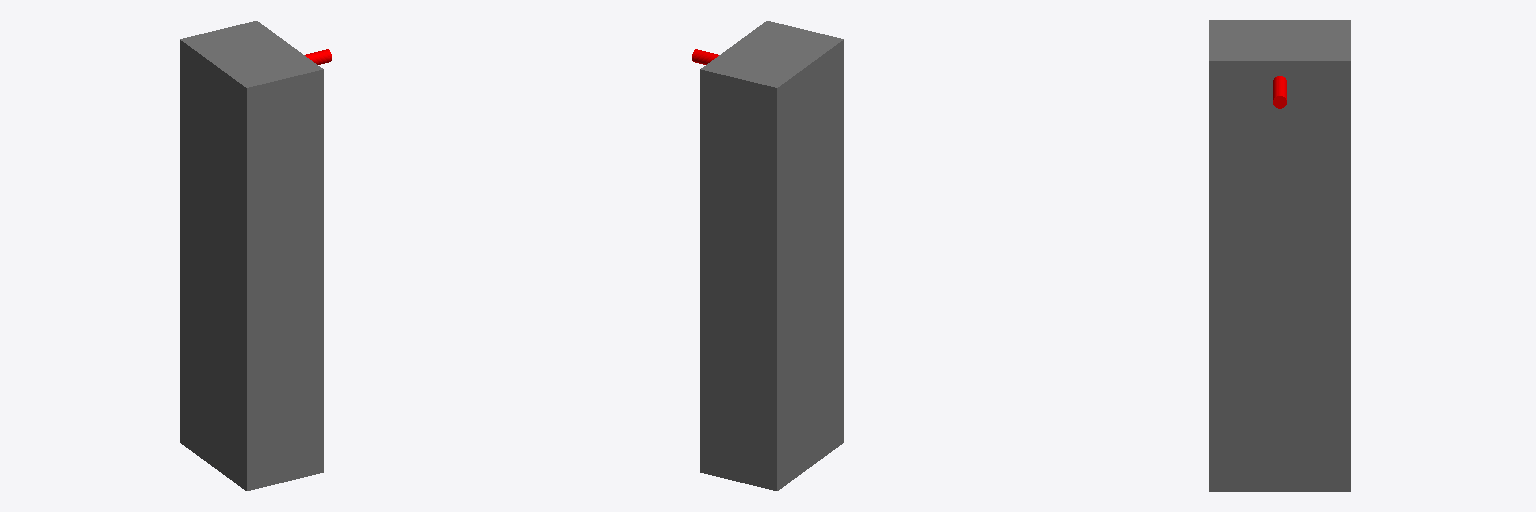
robot.urdf — piston_pneumatic:
<?xml version="1.0"?>
<robot name="piston_pneumatic">

  <link name="world"/>

  <link name="base_link">
    <inertial>
      <mass value="10.0"/>
      <origin xyz="0 0 0" rpy="0 0 0"/>
      <inertia ixx="0.1" ixy="0" ixz="0" iyy="0.1" iyz="0" izz="0.1"/>
    </inertial>
    <visual>
      <geometry>
        <box size="0.4 0.6 2.0 "/>
      </geometry>
      <material name="grey">
        <color rgba="0.5 0.5 0.5 1"/>
      </material>
    </visual>
    <collision>
      <geometry>
        <box size="0.4 0.6 2.0 "/>
      </geometry>
    </collision>
  </link>

  <joint name="fixed_to_world" type="fixed">
    <parent link="world"/>
    <child link="base_link"/>
    <origin xyz="0 0 0.1" rpy="0 0 0"/>
  </joint>

  <link name="pusher_rod">
    <inertial>
      <mass value="0.5"/>
      <origin xyz="0 0 0" rpy="0 1.57 0"/>
      <inertia ixx="0.001" ixy="0" ixz="0" iyy="0.001" iyz="0" izz="0.001"/>
    </inertial>
    <visual>
      <origin xyz="0 0 0" rpy="0 1.57 0"/>
      <geometry>
        <cylinder radius="0.03" length="0.4"/>
      </geometry>
      <material name="red">
        <color rgba="1 0 0 1"/>
      </material>
    </visual>
    <collision>
      <origin xyz="0 0 0" rpy="0 1.57 0"/>
      <geometry>
        <cylinder radius="0.03" length="0.4"/>
      </geometry>
    </collision>
  </link>

  <joint name="pusher_joint" type="prismatic">
    <parent link="base_link"/>
    <child link="pusher_rod"/>
    <origin xyz="0.2 0 0.9" rpy="0 0 0"/>
    <axis xyz="1 0 0"/>
    <limit lower="0" upper="1.0" effort="1000" velocity="2.0"/>
    <dynamics damping="0.5" friction="1.0"/>
  </joint>

  <ros2_control name="IgnitionSystem" type="system">
   <hardware>
    <plugin>ign_ros2_control/IgnitionSystem</plugin>
   </hardware>
   <joint name="pusher_joint">
    <command_interface name="effort">
      <param name="min">-1000</param>
      <param name="max">1000</param>
    </command_interface>
    <state_interface name="position"/>
    <state_interface name="velocity"/>
   </joint>
  </ros2_control>

  <gazebo>
   <plugin filename="ign_ros2_control-system" name="ign_ros2_control::IgnitionROS2ControlPlugin">
    <parameters>/home/user/ros2_ws/src/final_project/config/controllers.yaml</parameters>
    <ros>
      <namespace>piston_ns</namespace>
    </ros>
    <robot_param_node>rsp_piston</robot_param_node>
   </plugin>
  </gazebo>

</robot>

--- Render facts (derived) ---
3 views of the same robot in one strip: view 1: azimuth 30°, elevation 25°; view 2: azimuth 150°, elevation 25°; view 3: azimuth 270°, elevation 25° (orthographic).
Robot: piston_pneumatic — 3 links, 2 joints (1 prismatic, 1 fixed); root link world; default pose: every joint at zero.
Visible links, largest first — view 1: base_link; view 2: base_link; view 3: base_link.
Boxes of the visible links, left/top/right/bottom form: base_link: left=180, top=21, right=323, bottom=490; base_link: left=700, top=21, right=843, bottom=490; base_link: left=1209, top=20, right=1350, bottom=491.
Bounding box of the posed robot: 0.6 × 0.6 × 2 m (x, y, z).
Geometry: primitives only (box / cylinder / sphere), no mesh files.
